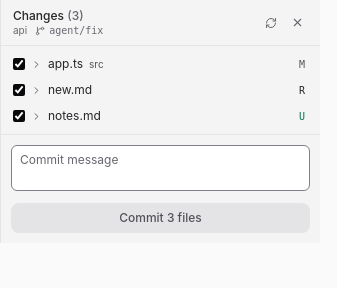
Test: ChangesPanel › shows why a commit failed
The width and height of the screenshot is (337, 288).
Type "Fix" into the text box labelled "Commit message" at (160, 168), box [11,145,310,191]
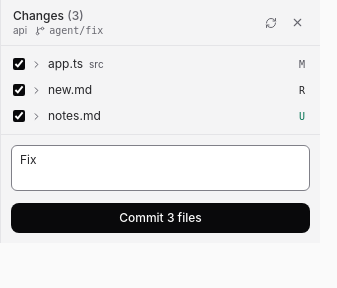
Click the button "Commit 3 files" at (160, 218), box [11,203,310,233]
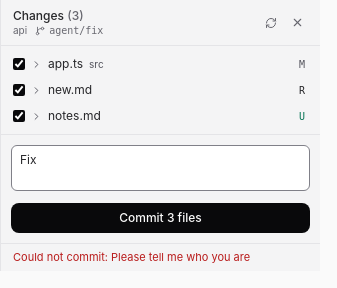
Now the message shows "Please tell me who you are", box [13,250,250,264]
